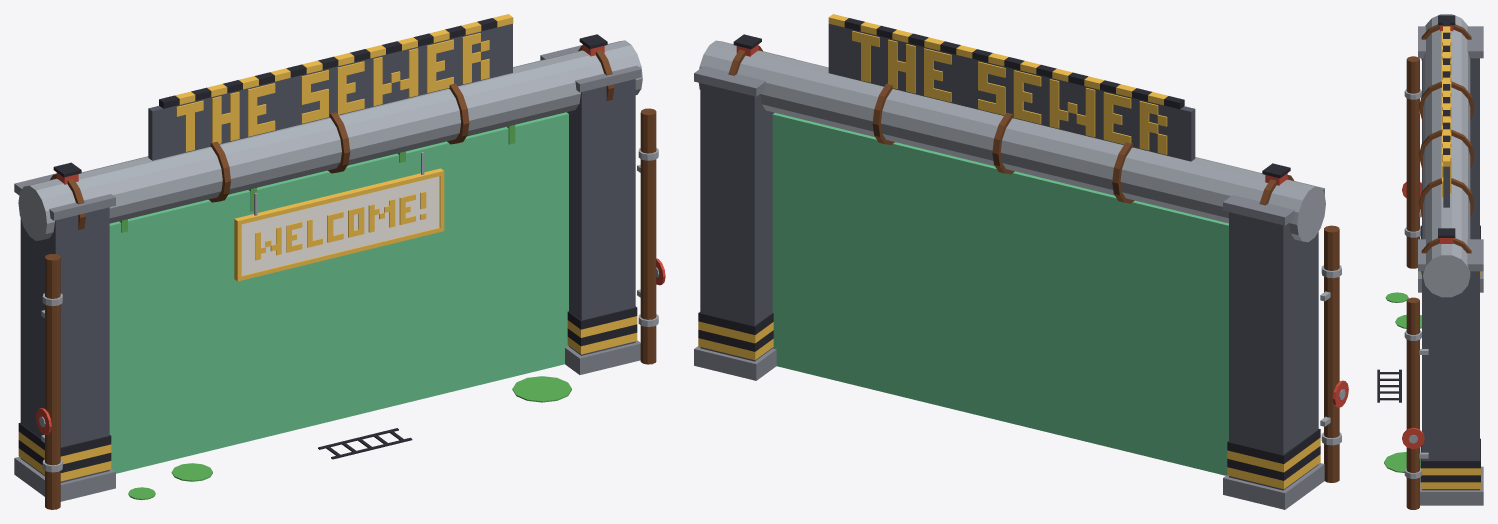
Rendered from CatCafe_Sewer_Gate.fbx.
3 renders of one model, left to right at view 1: azimuth 30°, elevation 25°; view 2: azimuth 150°, elevation 25°; view 3: azimuth 270°, elevation 25°, orthographic. The views are drawn at different scales.
Visible parts, largest first — view 1: CatCafe_Sewer_Gate, CatCafe_Sewer_Gate_Bars, CatCafe_Sewer_Gate_SignBoard; view 2: CatCafe_Sewer_Gate_Bars, CatCafe_Sewer_Gate; view 3: CatCafe_Sewer_Gate.
Part boxes in pixels (x1,y1,x2,y2): CatCafe_Sewer_Gate: [14, 14, 665, 509]; CatCafe_Sewer_Gate_Bars: [109, 112, 568, 473]; CatCafe_Sewer_Gate_SignBoard: [241, 176, 439, 275]; CatCafe_Sewer_Gate_Bars: [772, 113, 1228, 475]; CatCafe_Sewer_Gate: [694, 14, 1348, 509]; CatCafe_Sewer_Gate: [1377, 14, 1483, 509].
Size of the model in its own units: 31.1 by 17.3 by 5.6.
Materials: 1 (1 with a texture image).
